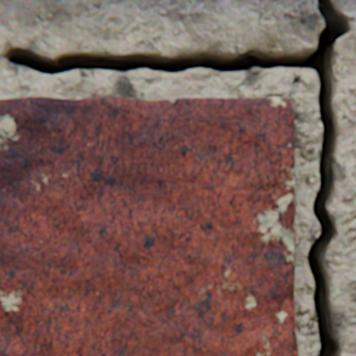brick: (0, 97, 298, 355)
crack: (1, 0, 354, 355)
